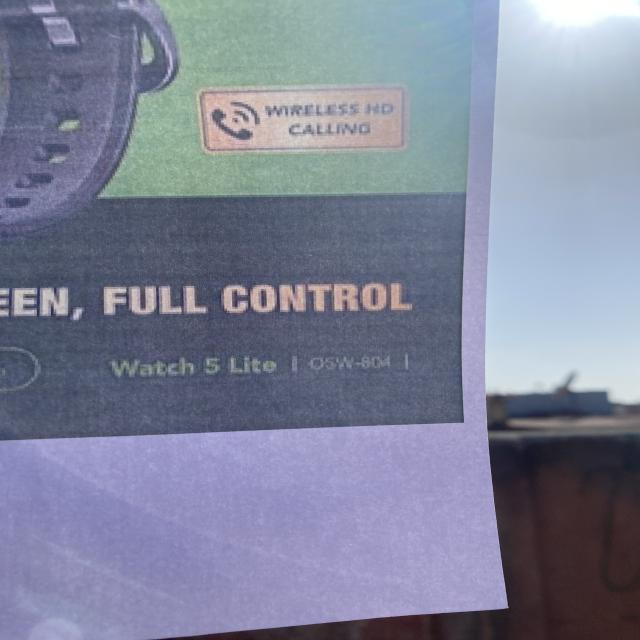Watch 5 Lite OSW-804: (105, 346, 444, 384)
